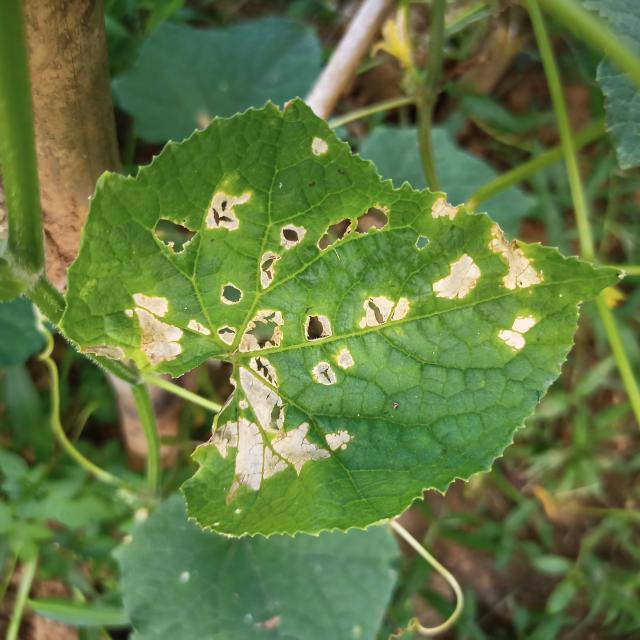disease_cucumber: (129, 185, 357, 500), (358, 160, 546, 365), (302, 132, 333, 166)
